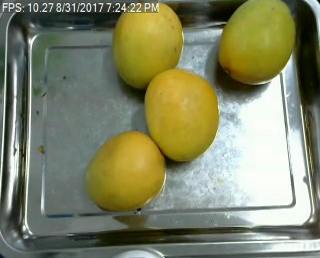Mango: (144, 68, 219, 160), (79, 130, 163, 212), (219, 0, 297, 84), (110, 1, 185, 88)
